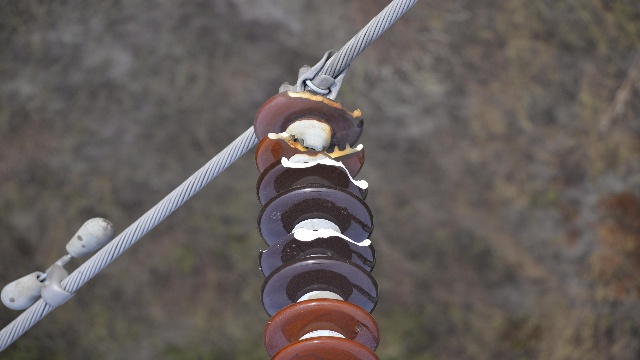broken_local: (278, 155, 370, 191), (261, 128, 365, 157), (260, 228, 374, 254), (286, 88, 361, 118)
insulator_unspecified: (251, 88, 381, 359)
